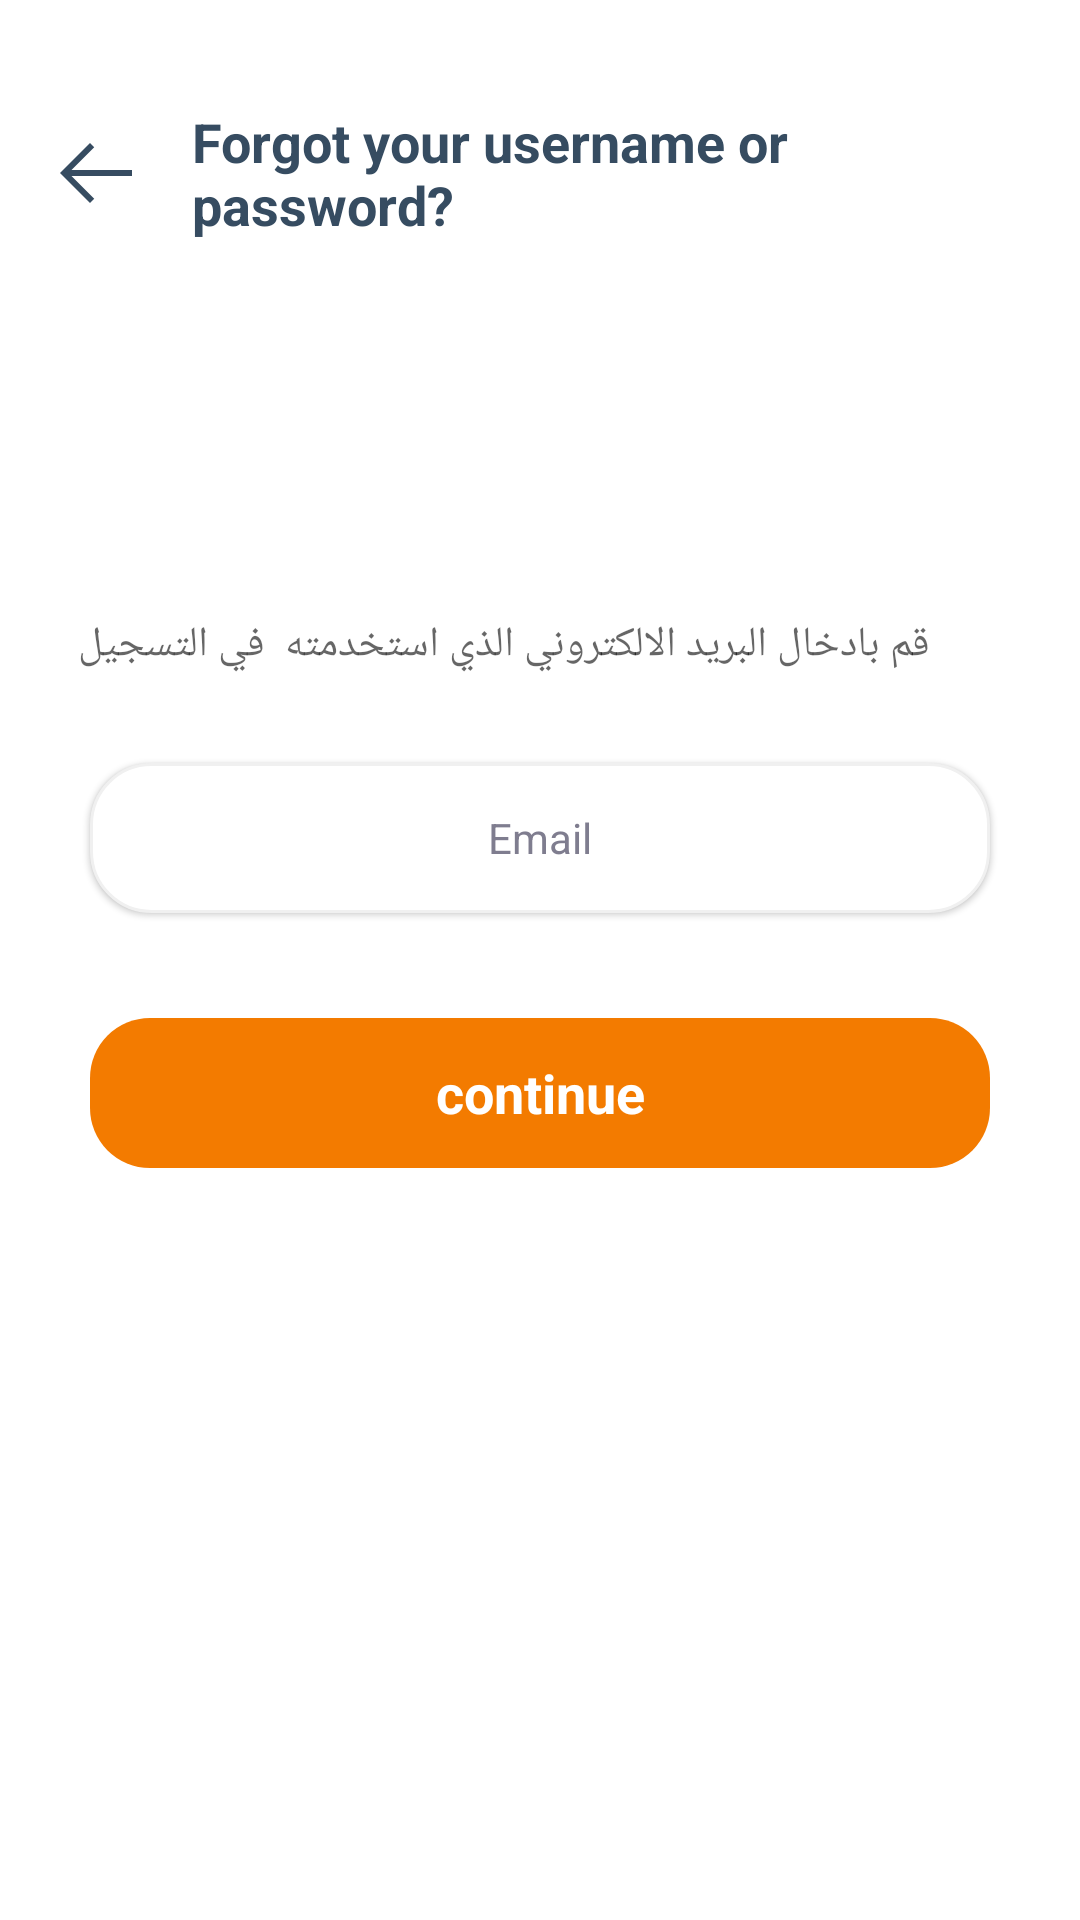

Where icons sit on this 1080×1920 app screen, as box(x1, y1, x2, y2):
back: box(60, 143, 132, 203)
